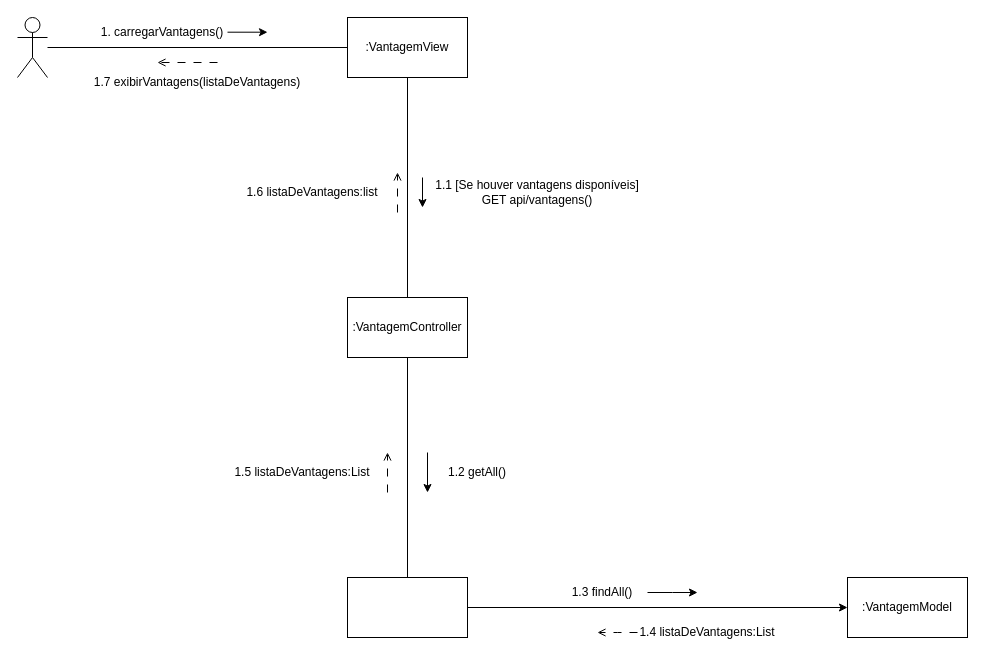
The diagram is 985 pixels wide and 665 high, and some of its shapes have lost their labels. The centre of each missing label's shape, as x and y in pixels:
":VantagemRepository" belongs at pixel 407 607.
"Aluno" belongs at pixel 32 47.
